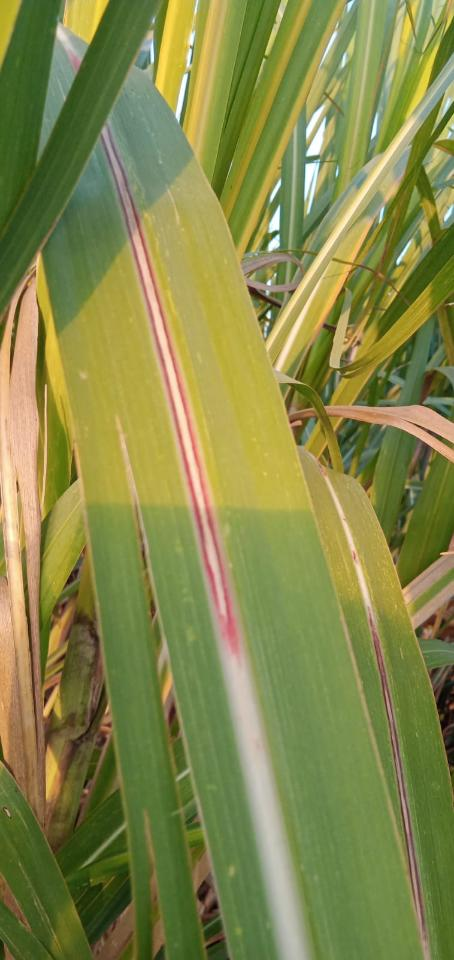RedRot: (100, 120, 242, 672), (368, 604, 432, 959), (350, 547, 360, 567)
